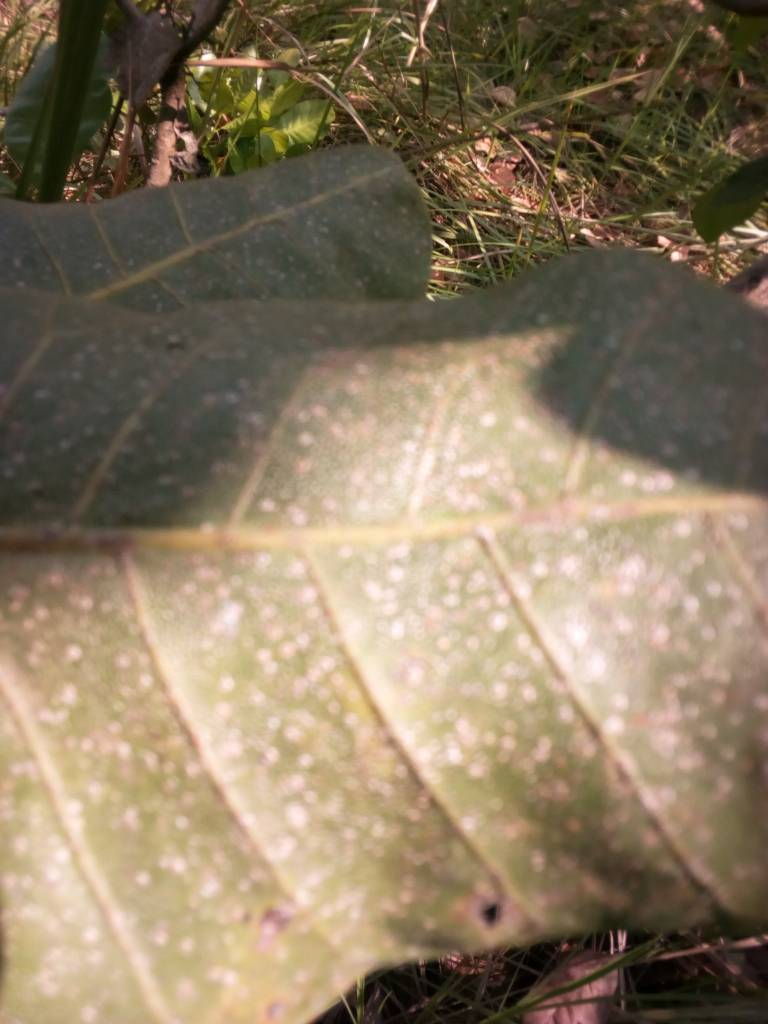Oidium: (15, 246, 768, 996)
